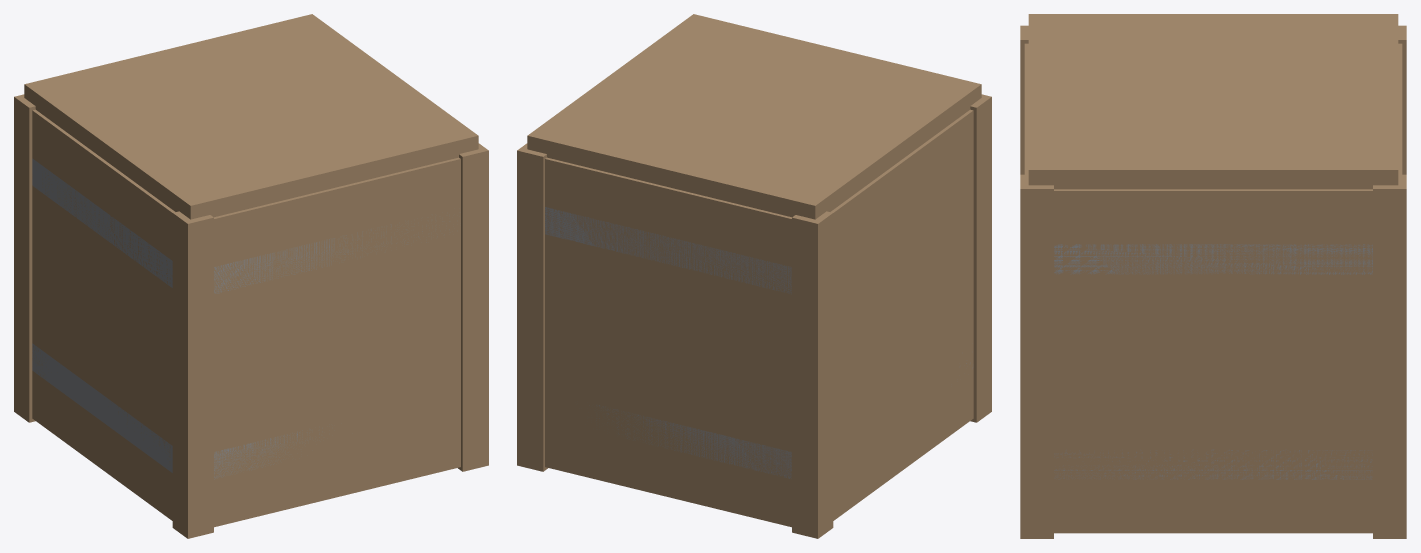
The model's file is crate.glb.
3 views of the same model, side by side, from view 1: azimuth 30°, elevation 25°; view 2: azimuth 150°, elevation 25°; view 3: azimuth 270°, elevation 25° (orthographic). The views are drawn at different scales.
Parts seen in each view (by area): view 1: CrateBody, Lid, Post_-1_-1, Post_1_-1, Post_-1_1, StrapY_a_0.18, StrapY_a_0.72, StrapX_a_0.72, StrapX_a_0.18; view 2: CrateBody, Lid, Post_-1_1, Post_1_1, StrapX_b_0.72, Post_-1_-1, StrapX_b_0.18; view 3: CrateBody, Lid, Post_1_-1, Post_1_1, StrapY_b_0.72, StrapY_b_0.18, Post_-1_-1, Post_-1_1.
Boxes of the visible parts, box(x1,y1,x2,y2) form: CrateBody: box(32, 109, 460, 527); Lid: box(24, 14, 478, 219); Post_-1_-1: box(172, 211, 213, 538); Post_1_-1: box(458, 143, 488, 471); Post_-1_1: box(14, 94, 35, 422); StrapY_a_0.18: box(32, 343, 172, 472); StrapY_a_0.72: box(32, 158, 172, 287); StrapX_a_0.72: box(214, 221, 449, 293); StrapX_a_0.18: box(214, 428, 322, 479); CrateBody: box(545, 109, 973, 527); Lid: box(527, 14, 981, 219); Post_-1_1: box(792, 211, 833, 538); Post_1_1: box(517, 143, 547, 471); StrapX_b_0.72: box(545, 207, 791, 294); Post_-1_-1: box(970, 94, 991, 422); StrapX_b_0.18: box(589, 405, 791, 478); CrateBody: box(1024, 43, 1402, 533); Lid: box(1028, 14, 1398, 189); Post_1_-1: box(1020, 174, 1053, 538); Post_1_1: box(1373, 174, 1406, 538); StrapY_b_0.72: box(1054, 244, 1372, 274); StrapY_b_0.18: box(1054, 449, 1372, 479); Post_-1_-1: box(1020, 25, 1028, 174); Post_-1_1: box(1398, 25, 1406, 174).
Bounding box in the file's own units: 0.92 × 0.96 × 0.92.
